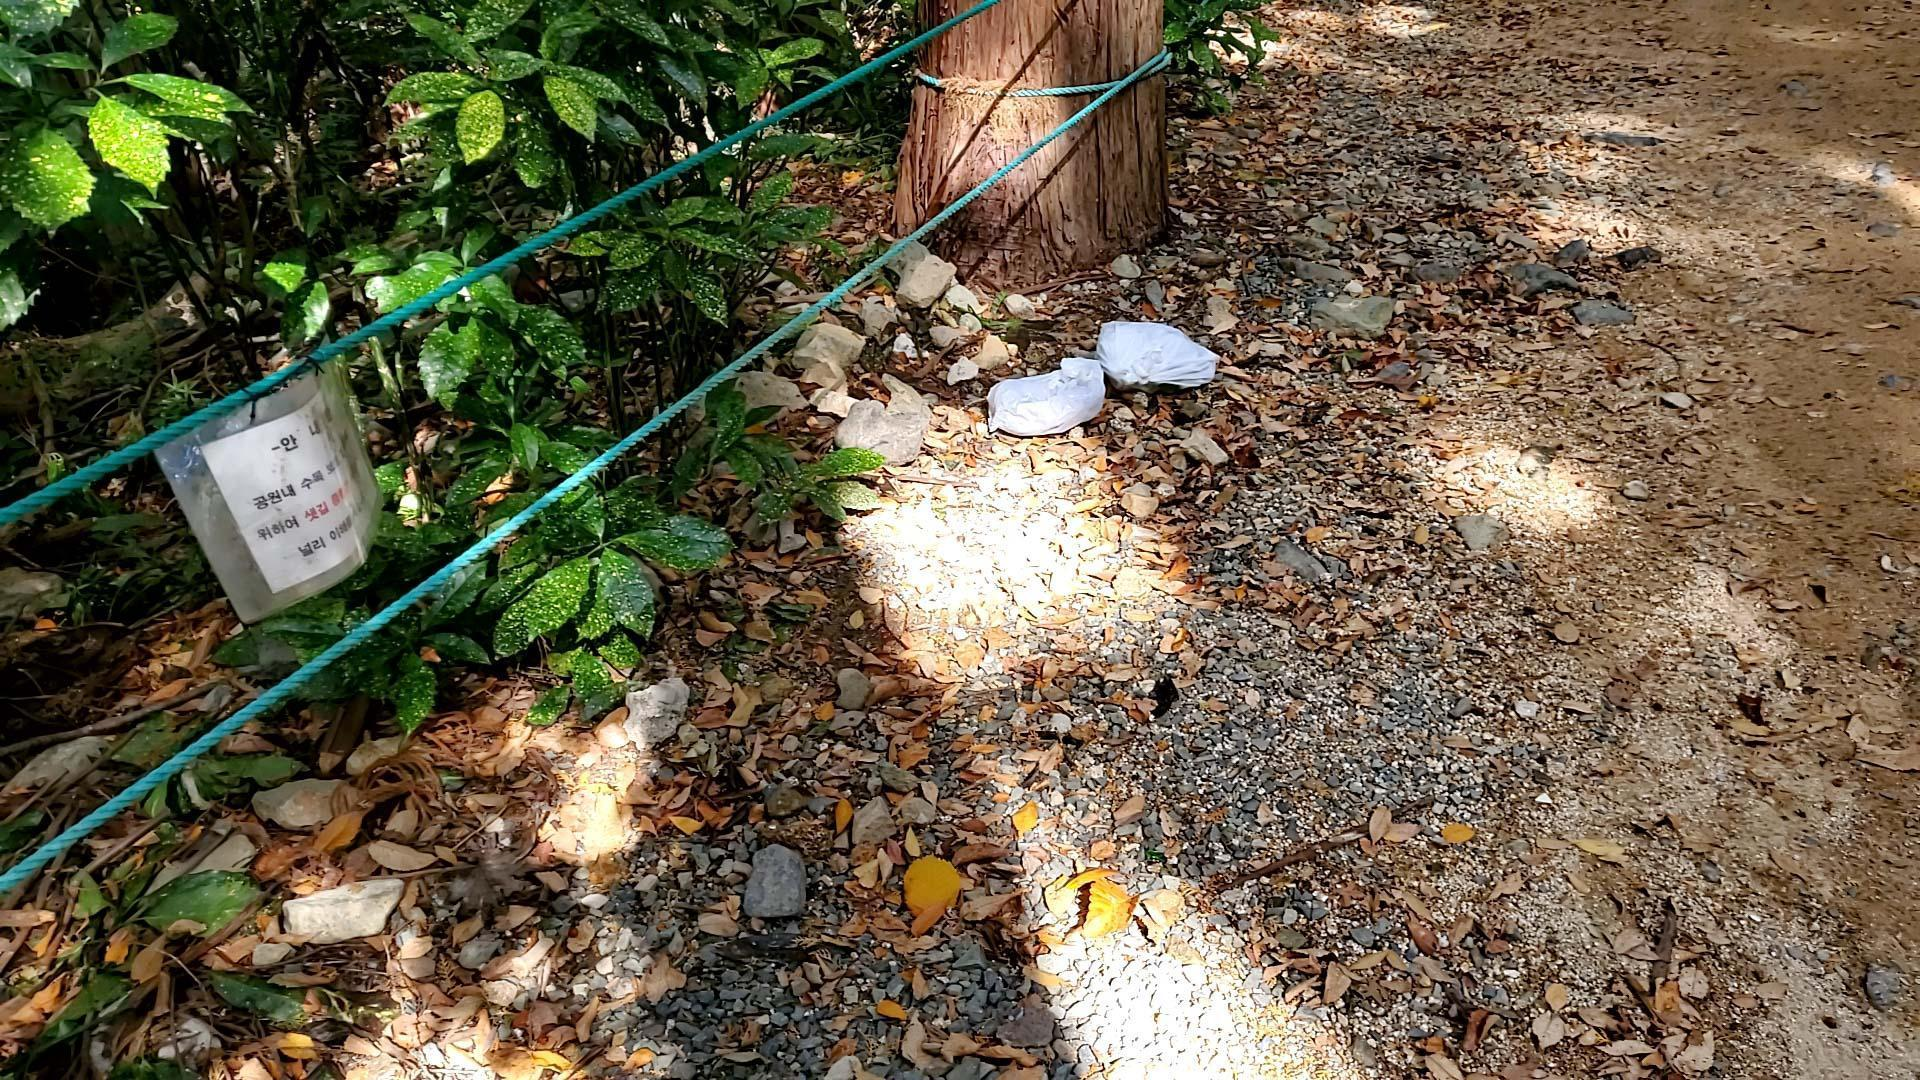white_bag: (978, 348, 1113, 448), (1091, 315, 1226, 397)
